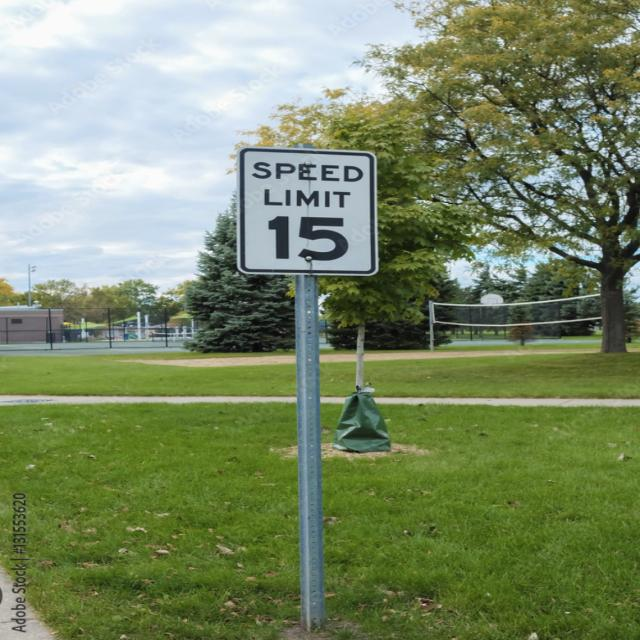speedLimit15: (243, 148, 371, 274)
